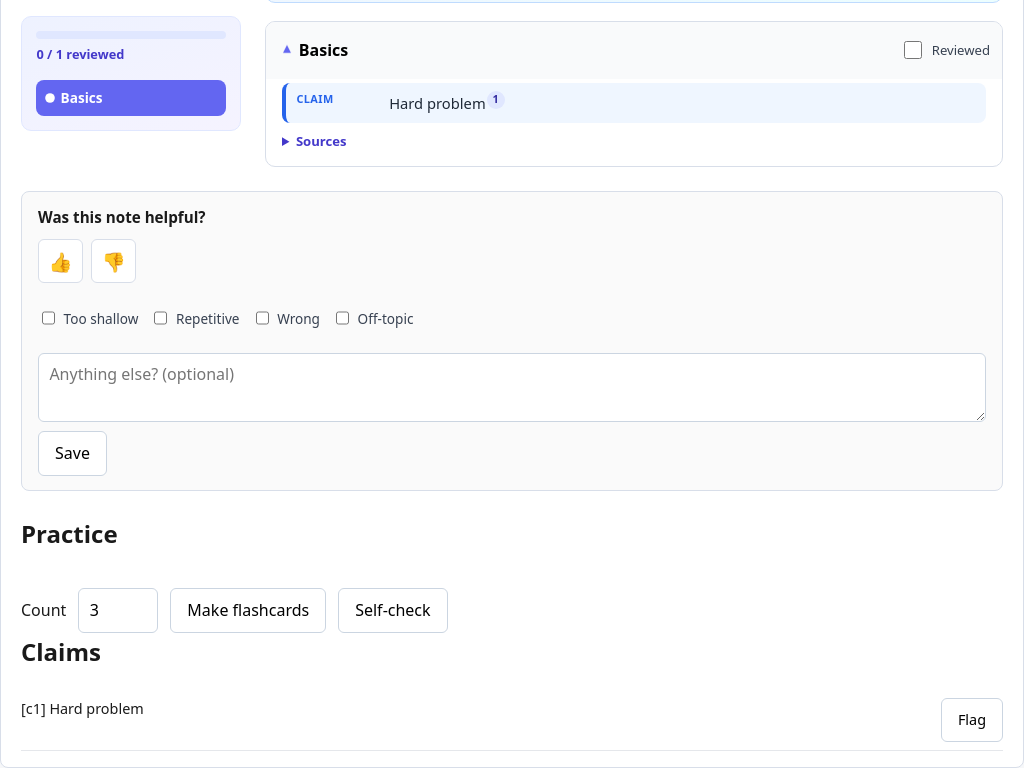
ConceptView › omits the self-check panel gracefully when the backend returns none
(page scrolled)
Expected: the heading "Basics" is shown, [299, 38, 348, 63]
Click the button "Self-check" at (393, 610), box [338, 588, 448, 633]
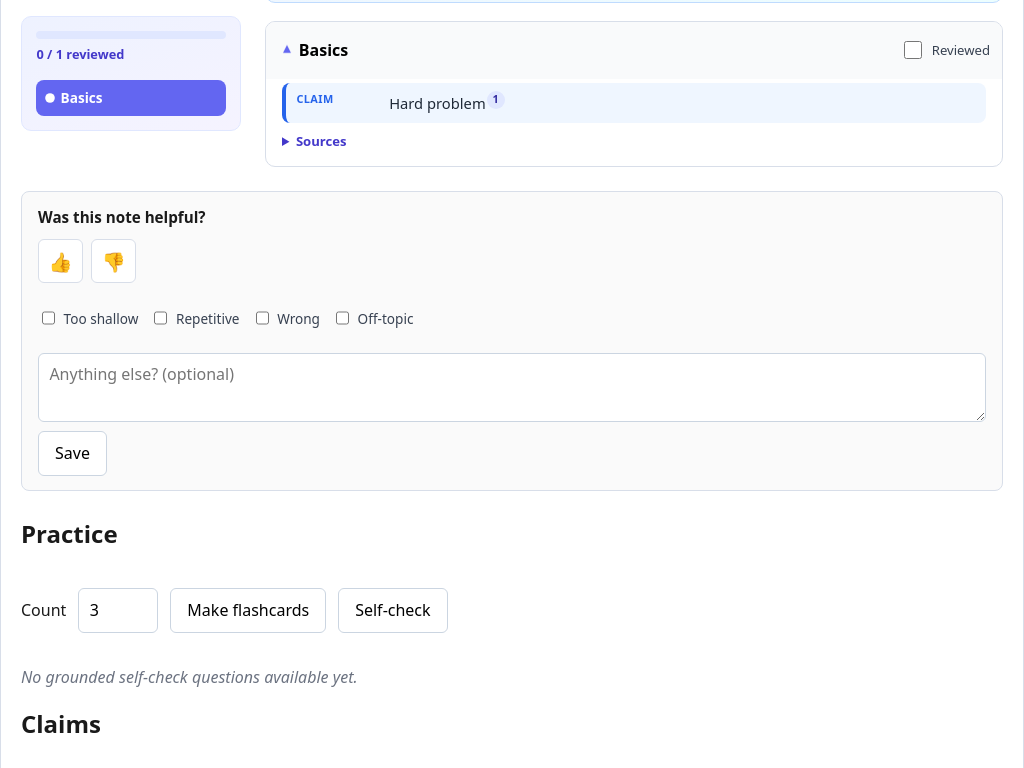
Expected: the text "No grounded self-check questions available yet." is shown, [21, 666, 358, 688]
